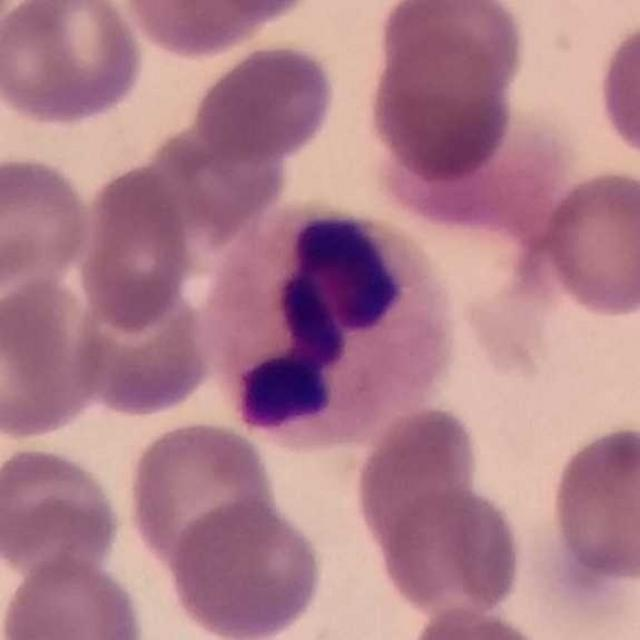Neutrophil: (200, 193, 468, 454)
RBC: (370, 100, 576, 242), (350, 400, 488, 586), (123, 416, 280, 577), (363, 27, 520, 185), (164, 495, 327, 640), (370, 481, 526, 624), (73, 161, 197, 334), (68, 280, 214, 420), (190, 39, 341, 166), (0, 0, 147, 129), (0, 273, 108, 444), (0, 441, 126, 576), (536, 165, 640, 322), (546, 420, 640, 586), (373, 0, 531, 95), (148, 122, 282, 232), (0, 152, 97, 292), (0, 552, 148, 640), (531, 521, 640, 638), (118, 0, 306, 62), (592, 11, 640, 173), (400, 603, 558, 640), (182, 0, 322, 19)
